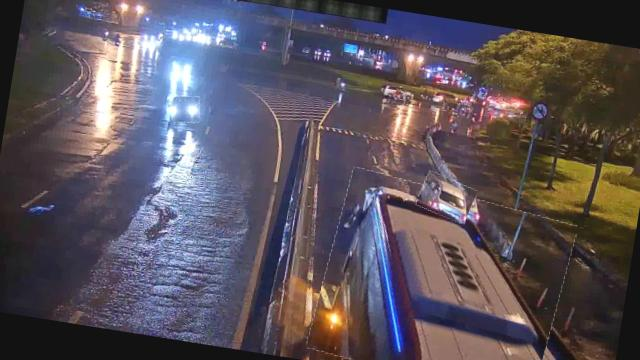Bus: (308, 169, 576, 360)
Car: (416, 172, 478, 222), (165, 93, 202, 125)
